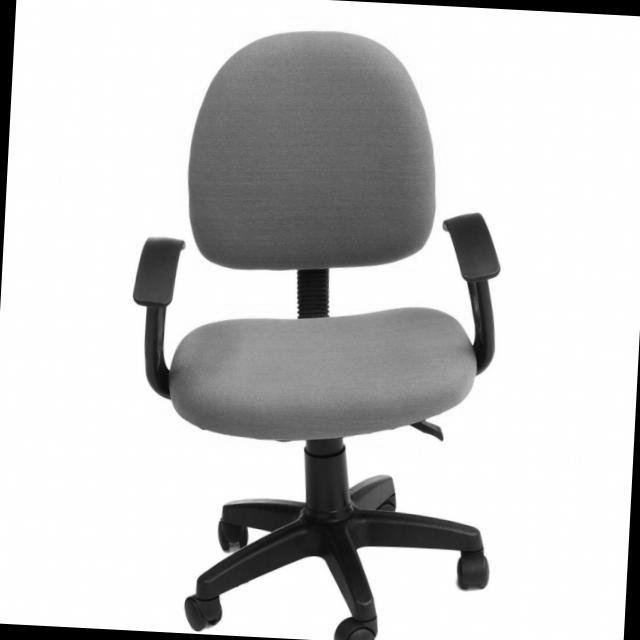chair: (115, 14, 537, 640)
